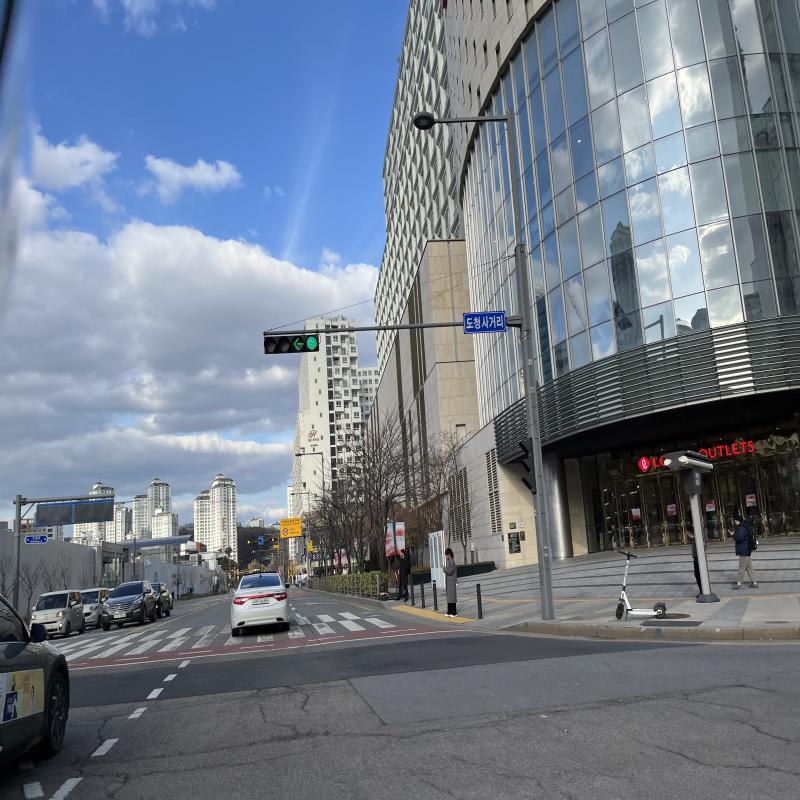green: (305, 336, 318, 351)
left: (292, 337, 304, 351)
